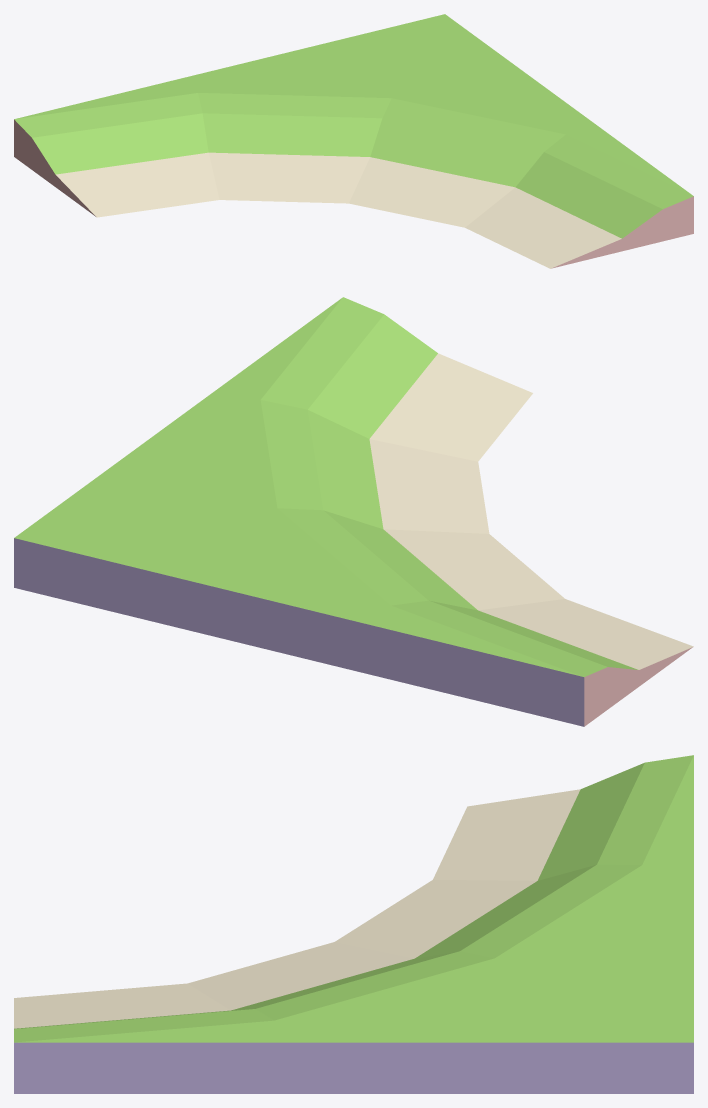
The model's file is Path_Terrain_Basic_Curve_Inner_3x3.glb.
The picture shows the model from 3 angles, top to bottom: view 1: azimuth 30°, elevation 25°; view 2: azimuth 150°, elevation 25°; view 3: azimuth 270°, elevation 25°; orthographic projection. The views are drawn at different scales.
Visible parts, largest first — view 1: Path_Terrain_Basic_Curve_Inner_3x3; view 2: Path_Terrain_Basic_Curve_Inner_3x3; view 3: Path_Terrain_Basic_Curve_Inner_3x3.
Part boxes in pixels (x1,y1,x2,y2): Path_Terrain_Basic_Curve_Inner_3x3: (14, 14, 693, 268); Path_Terrain_Basic_Curve_Inner_3x3: (14, 297, 693, 726); Path_Terrain_Basic_Curve_Inner_3x3: (14, 755, 693, 1093).
Size of the model in its own units: 300 by 25 by 300.
